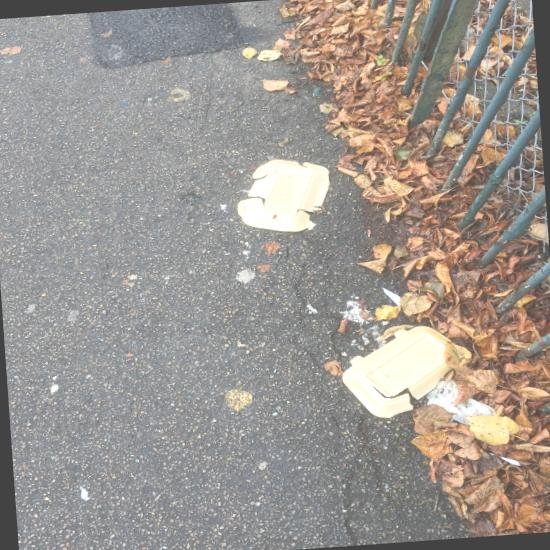Foam food container: (342, 326, 456, 418), (237, 159, 329, 231)
Unlabeled litter: (425, 379, 496, 424)
